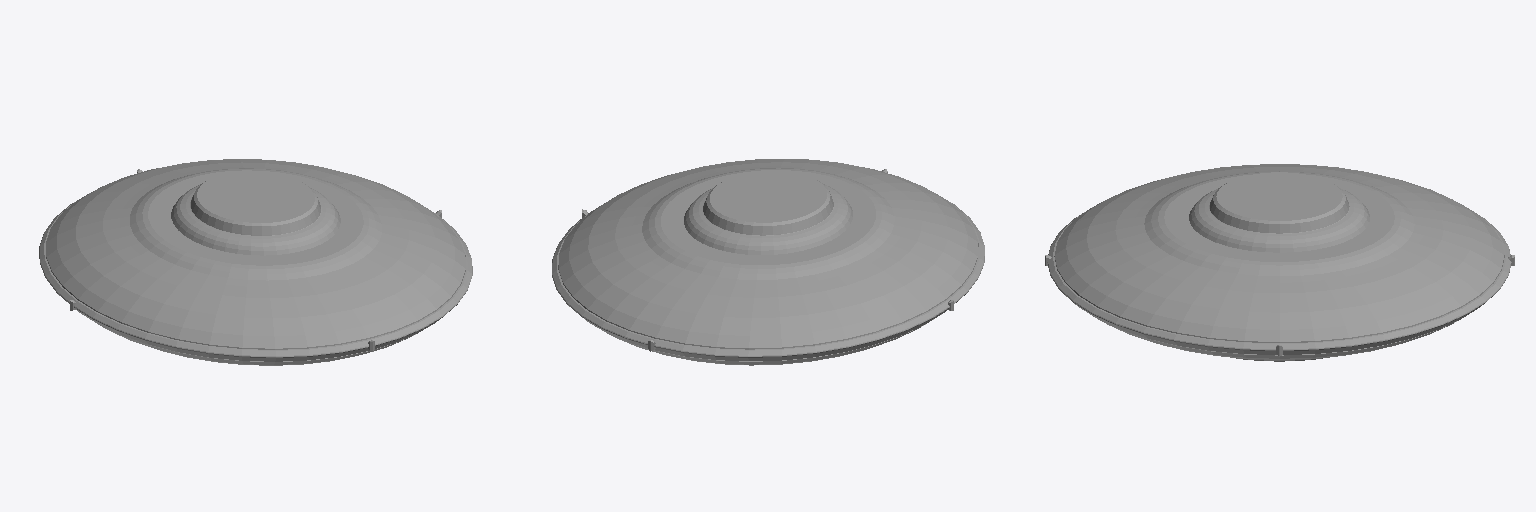
Rendered from UFO.obj.
The picture shows the model from 3 angles: view 1: azimuth 30°, elevation 25°; view 2: azimuth 150°, elevation 25°; view 3: azimuth 270°, elevation 25°; orthographic projection.
Parts seen in each view (by area): view 1: Mesh; view 2: Mesh; view 3: Mesh.
Boxes of the visible parts, x1=… form: Mesh: x1=39, y1=159, x2=472, y2=365; Mesh: x1=552, y1=159, x2=984, y2=365; Mesh: x1=1045, y1=164, x2=1514, y2=361.
Bounding box in the file's own units: 20.76 × 6.32 × 22.75.